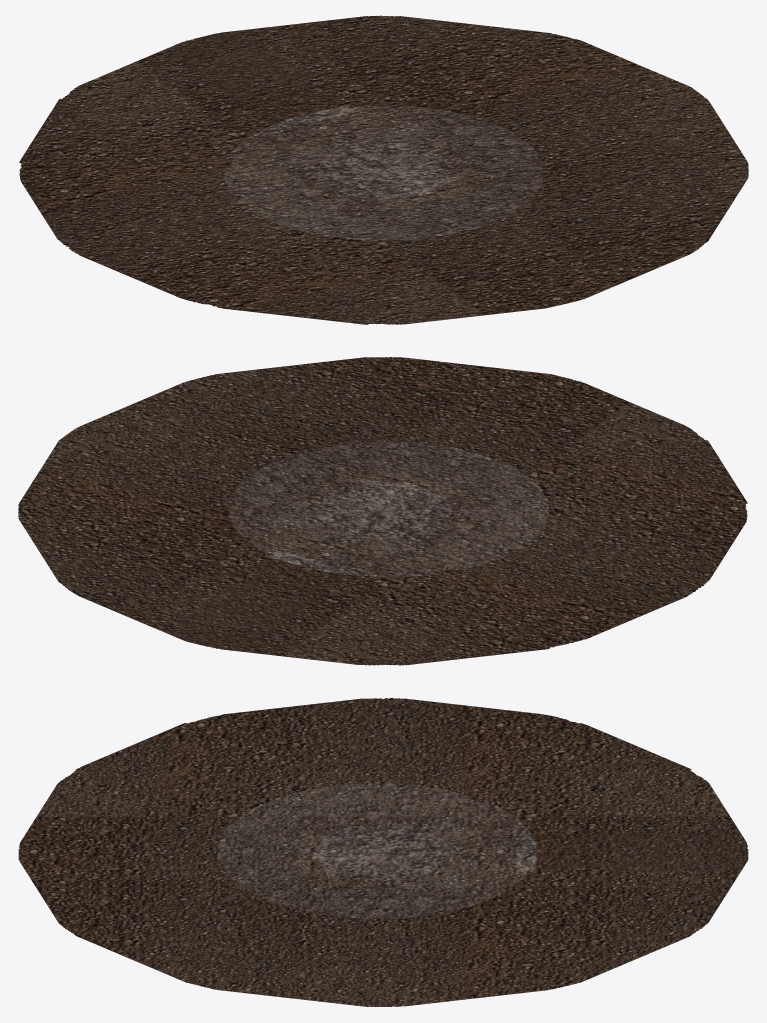
The model's file is city_base_0309.FBX.
The picture shows the model from 3 angles, top to bottom: view 1: azimuth 30°, elevation 25°; view 2: azimuth 150°, elevation 25°; view 3: azimuth 270°, elevation 25°; orthographic projection.
Parts seen in each view (by area): view 1: Cylinder001; view 2: Cylinder001; view 3: Cylinder001.
Boxes of the visible parts, bbox=[...] form: Cylinder001: bbox=[19, 15, 748, 324]; Cylinder001: bbox=[18, 357, 747, 665]; Cylinder001: bbox=[18, 698, 748, 1006].
Bounding box in the file's own units: 6000 × 3 × 6000.
1 material, 1 textured.
